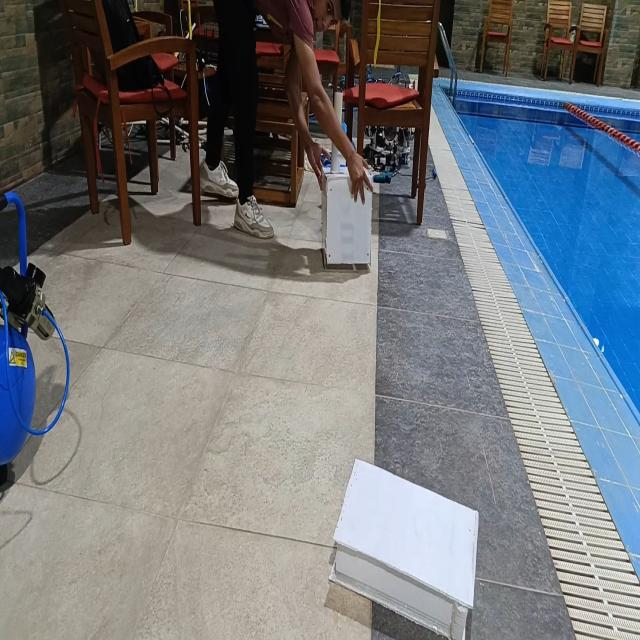Cube: (320, 164, 373, 269)
Cuboid: (330, 456, 480, 638)
